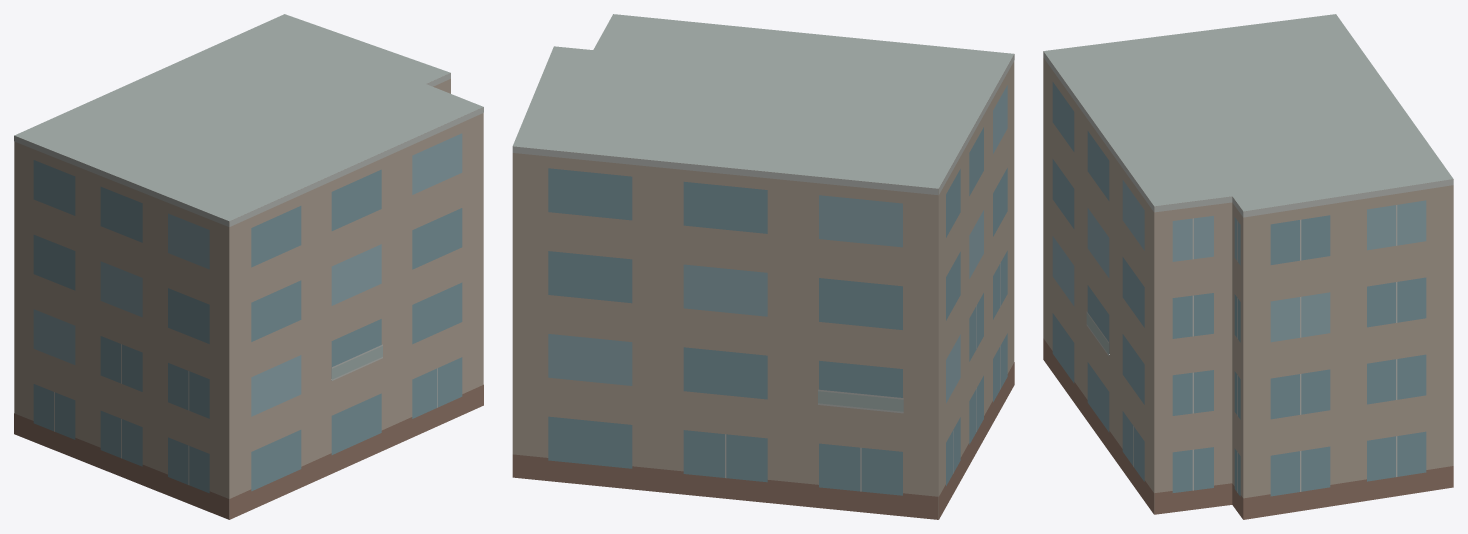
Rendered from survey-upis-32999113.glb.
3 renders of one model, left to right at view 1: azimuth 30°, elevation 25°; view 2: azimuth 150°, elevation 25°; view 3: azimuth 270°, elevation 25°, orthographic. The views are drawn at different scales.
Visible parts, largest first — view 1: survey-upis-32999113.tmp; view 2: survey-upis-32999113.tmp; view 3: survey-upis-32999113.tmp.
Boxes of the visible parts, x1,y1,x2,y2 form: survey-upis-32999113.tmp: (14, 14, 483, 519); survey-upis-32999113.tmp: (512, 14, 1014, 519); survey-upis-32999113.tmp: (1043, 14, 1453, 519).
Size of the model in its own units: 17.04 by 12.4 by 14.96.
